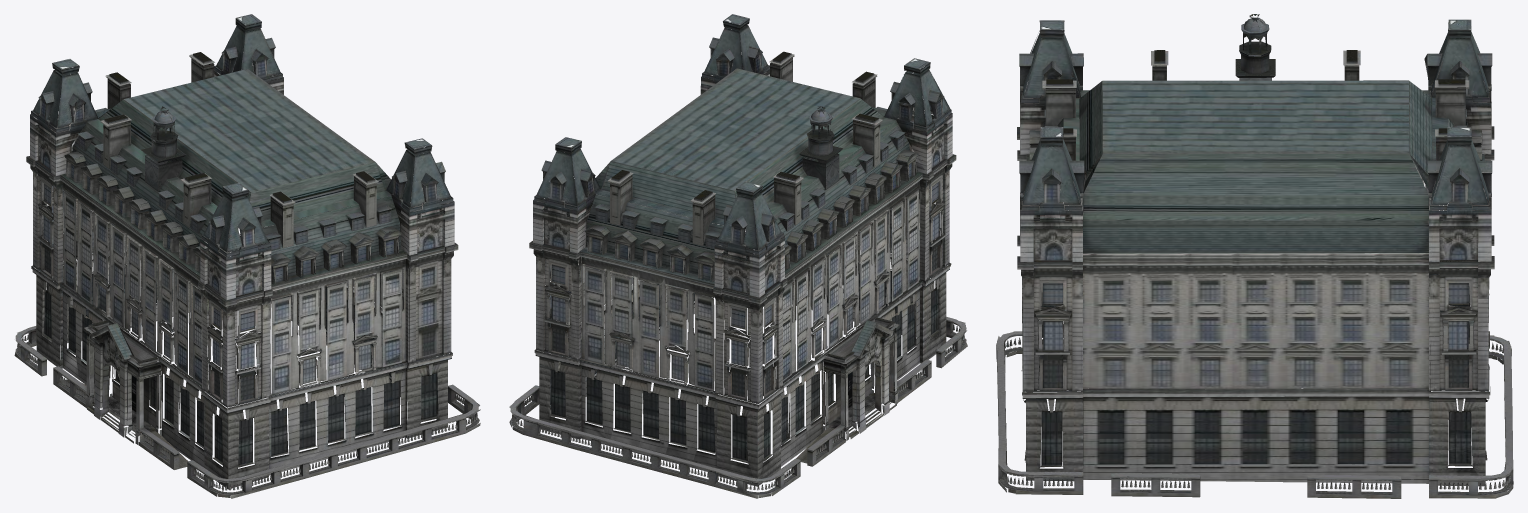
File: london_kinnaird.gltf
3 renders of one model, left to right at view 1: azimuth 30°, elevation 25°; view 2: azimuth 150°, elevation 25°; view 3: azimuth 270°, elevation 25°, orthographic. The views are drawn at different scales.
Parts seen in each view (by area): view 1: Building_London_Building_0; view 2: Building_London_Building_0; view 3: Building_London_Building_0.
Part boxes in pixels (x1,y1,x2,y2): Building_London_Building_0: [14, 14, 480, 498]; Building_London_Building_0: [509, 14, 967, 498]; Building_London_Building_0: [996, 14, 1513, 498].
Bounding box in the file's own units: 31.8 × 34.02 × 42.96.
Materials: 1 (1 with a texture image).
